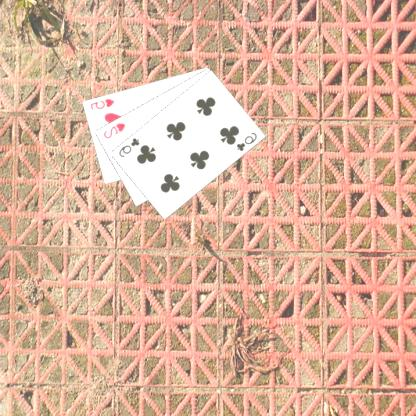2H: (102, 120, 128, 140)
5H: (89, 96, 117, 111)
6C: (118, 134, 142, 158), (235, 130, 260, 152)
